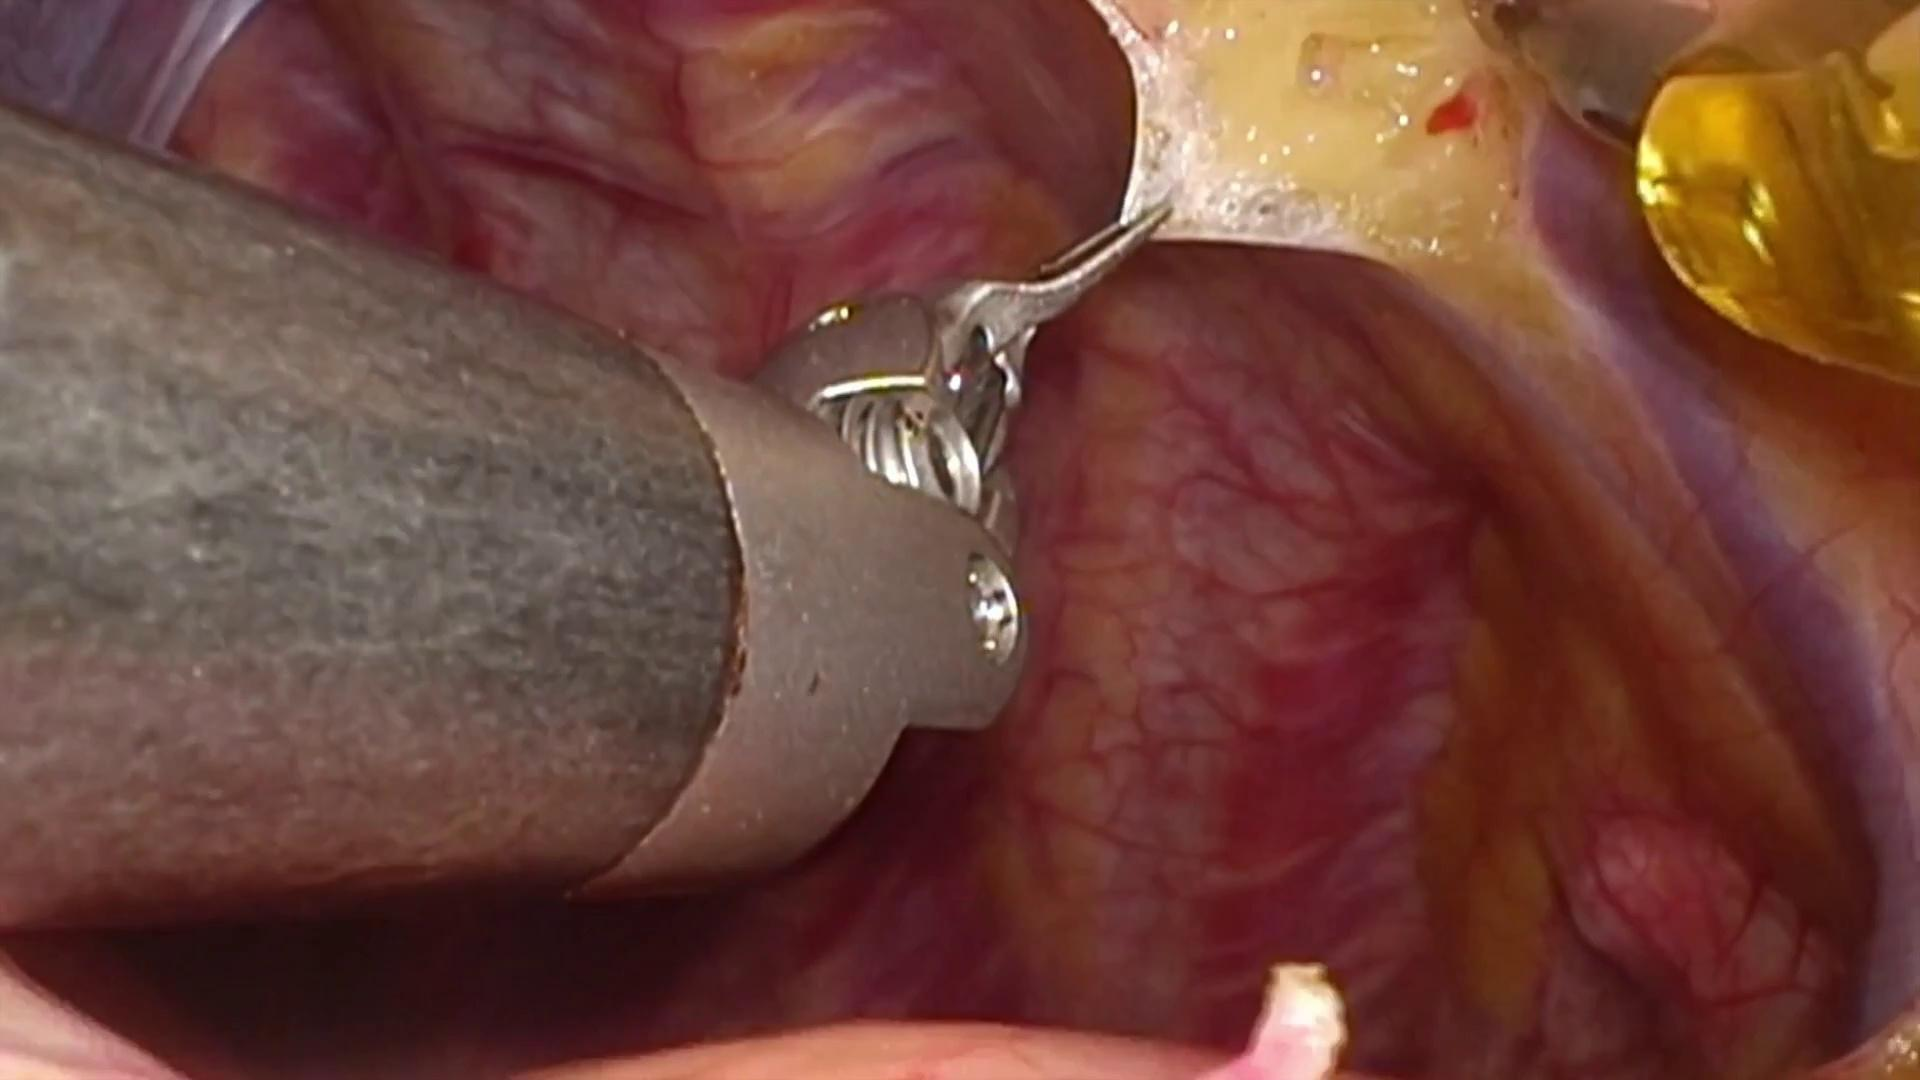Cautery_Spatula: (1447, 0, 1739, 128)
Debakey: (928, 177, 1185, 425)
